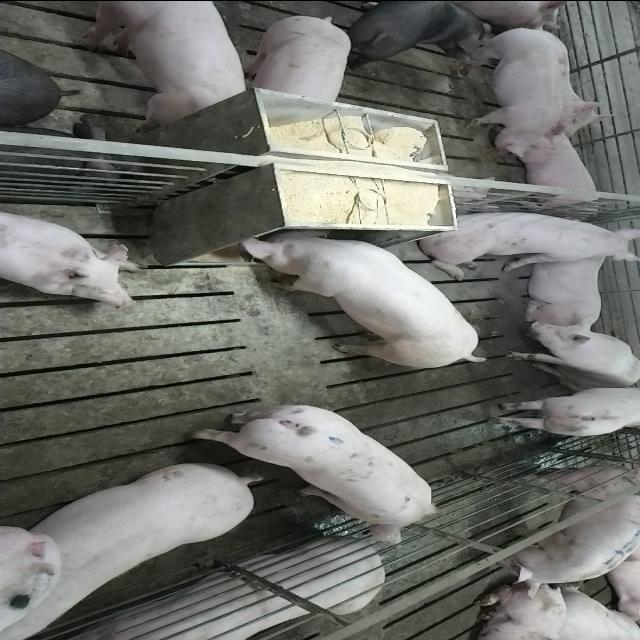Feeding: (234, 220, 489, 364)
Sitting: (411, 205, 636, 272), (503, 320, 639, 388)
Standing: (7, 458, 267, 635), (186, 404, 446, 550), (74, 1, 254, 124), (502, 466, 638, 596), (450, 22, 563, 160), (238, 11, 354, 108), (340, 0, 498, 62), (482, 383, 638, 438)
Sternal_lying: (58, 540, 384, 640), (0, 205, 142, 308), (506, 131, 610, 213), (517, 248, 609, 328), (535, 72, 613, 138)
